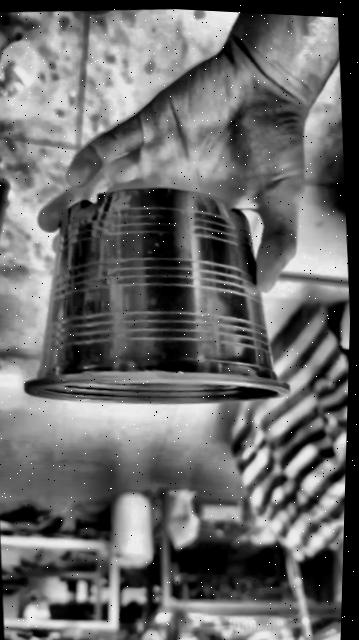pot: (24, 188, 288, 403)
